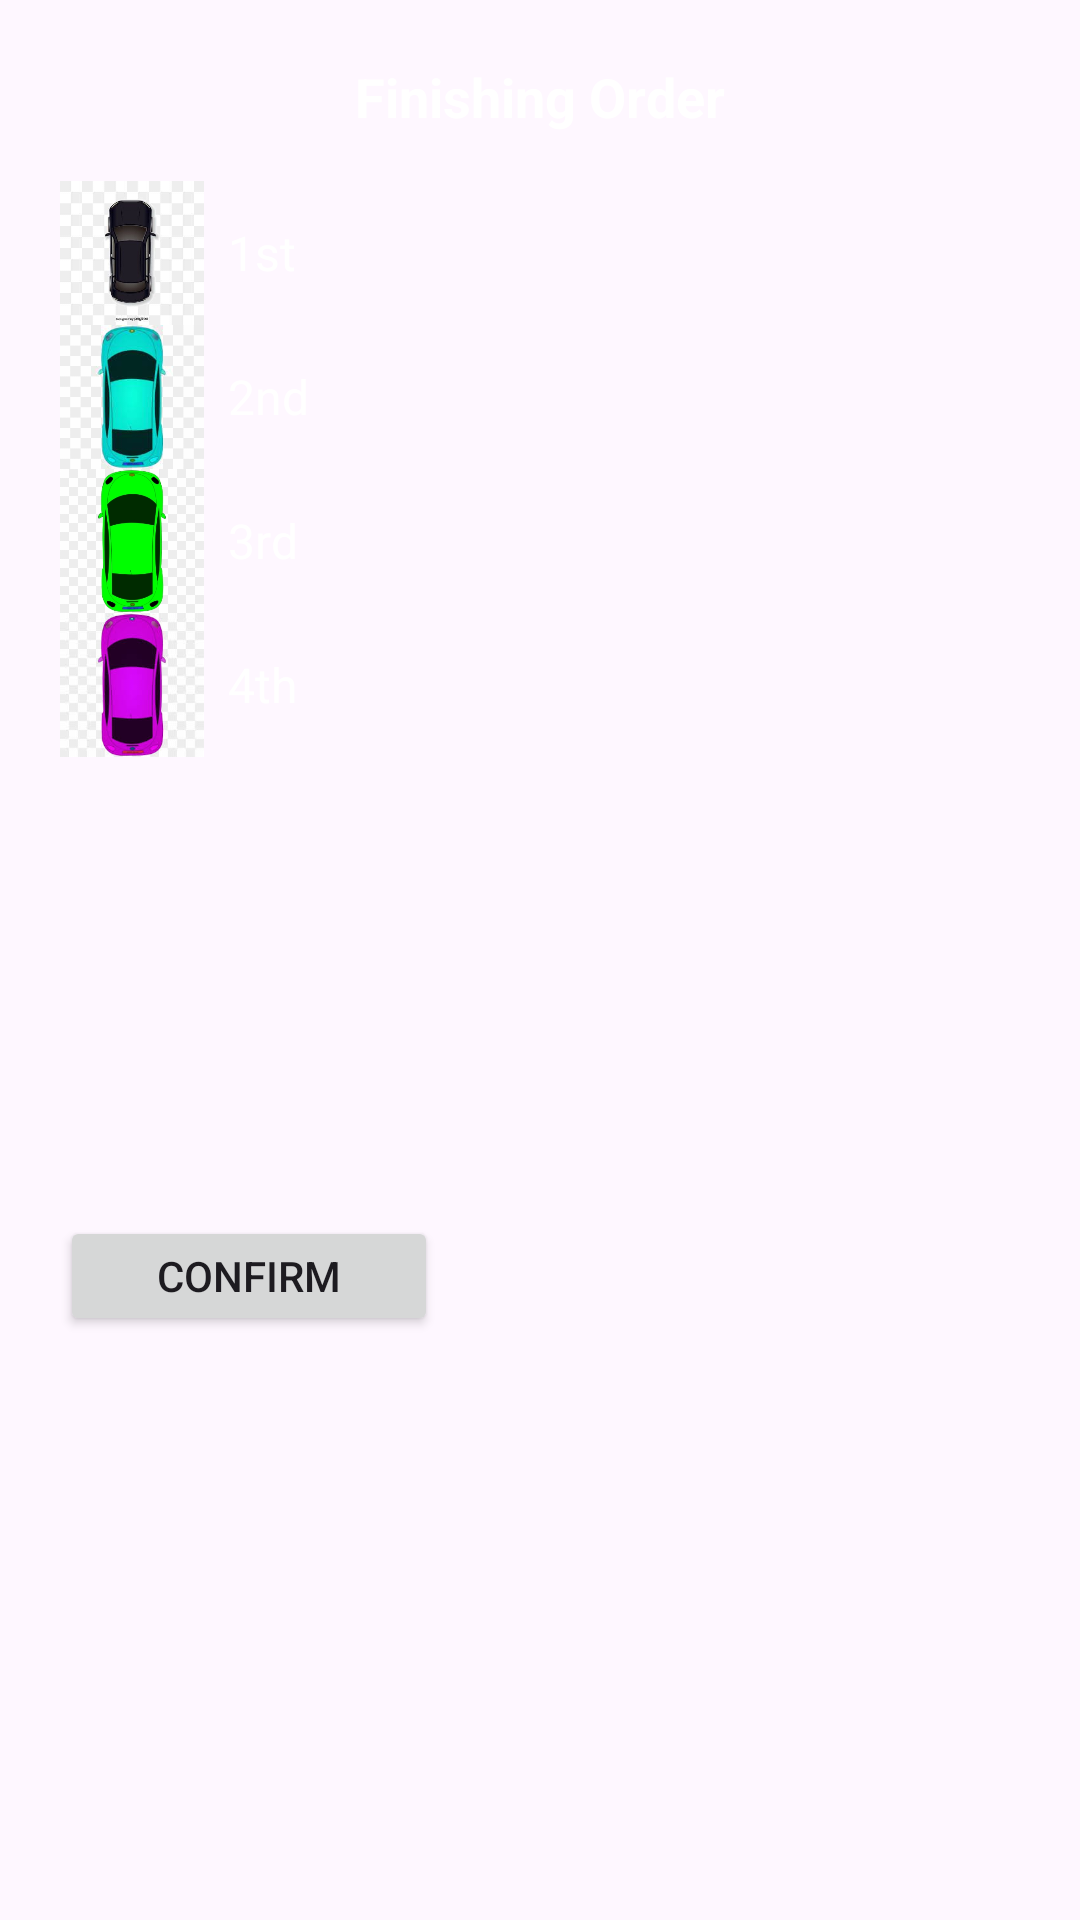

Where icons sit on this 1080 × 1920 app screen, as bbox(x1, y1, x2, y2):
blackcar: bbox(105, 193, 170, 321)
bluecar: bbox(91, 325, 166, 469)
greencar: bbox(97, 469, 166, 613)
purplecar: bbox(96, 613, 167, 756)
